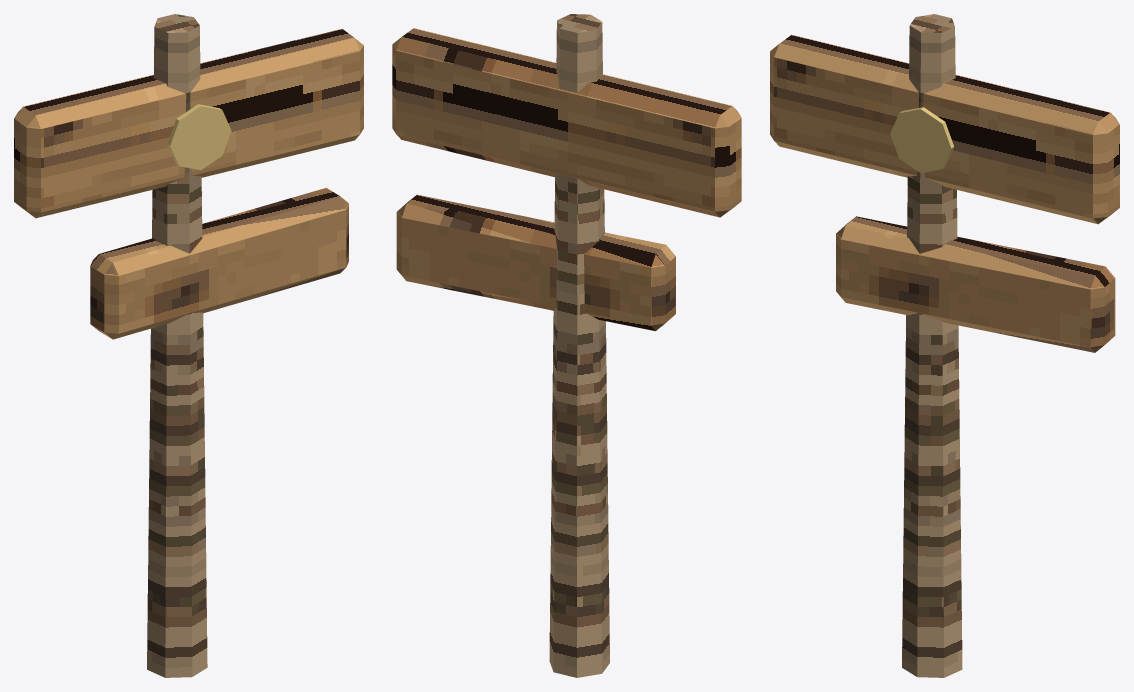
The model's file is enfeite_placa.fbx.
3 renders of one model, left to right at view 1: azimuth 30°, elevation 25°; view 2: azimuth 150°, elevation 25°; view 3: azimuth 330°, elevation 25°, orthographic.
Parts seen in each view (by area): view 1: deserto_enfeite_placa; view 2: deserto_enfeite_placa; view 3: deserto_enfeite_placa.
Part boxes in pixels (box(x1,y1,x2,y2)): deserto_enfeite_placa: box(14, 14, 363, 677); deserto_enfeite_placa: box(392, 14, 741, 677); deserto_enfeite_placa: box(770, 14, 1119, 677).
Size of the model in its own units: 55 by 100 by 9.9.
3 materials, 2 textured.
